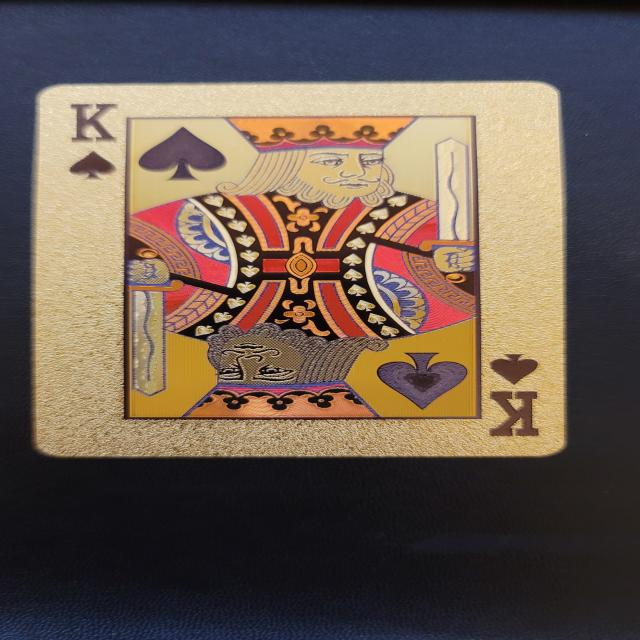King of spades: (25, 81, 573, 461)
